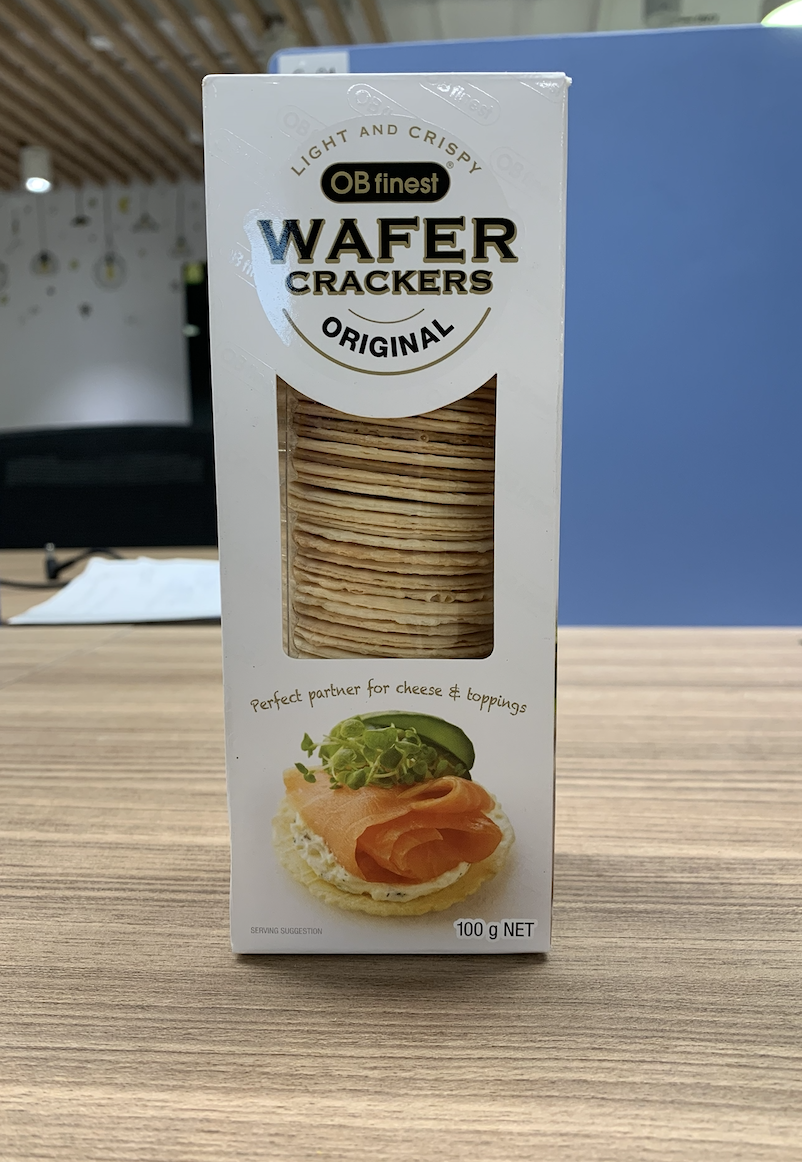crackers_150g: (231, 86, 552, 949)
